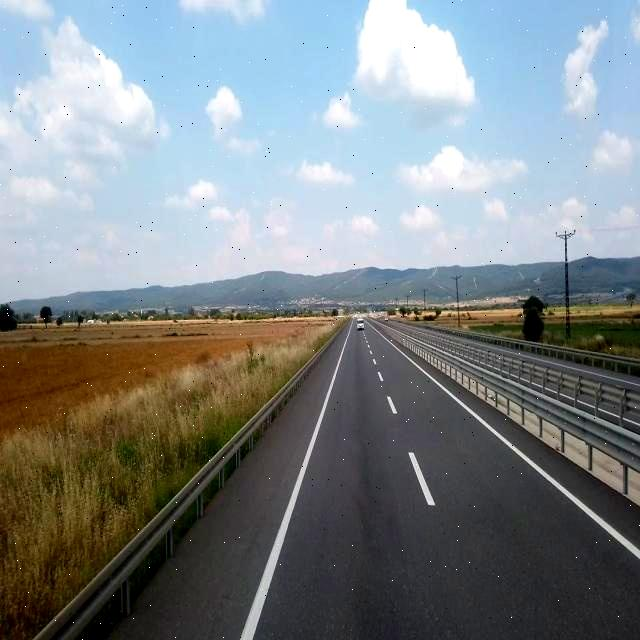lane: (396, 348, 639, 558), (240, 371, 335, 633), (409, 452, 434, 506), (388, 396, 396, 414)
road: (125, 324, 639, 638)
